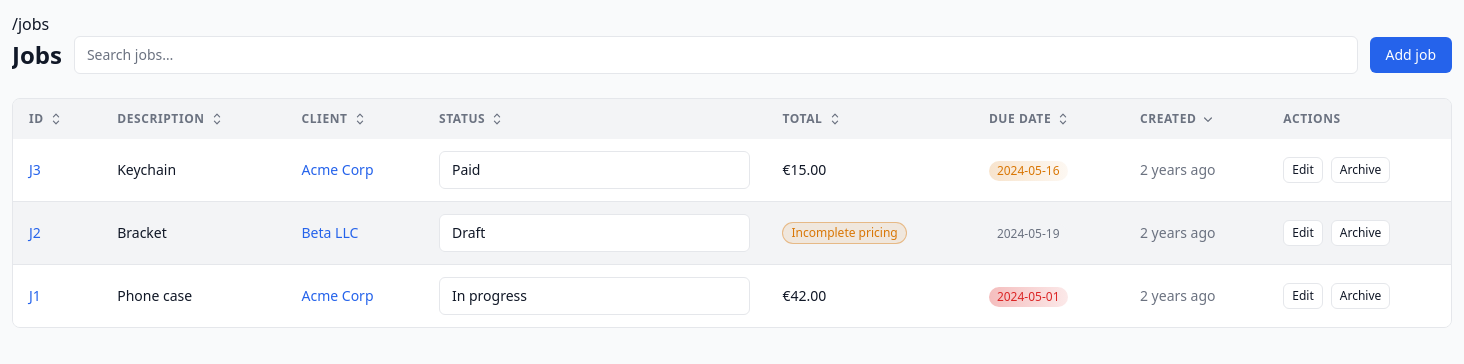
Test: JobsPage › shows the job tag tooltip from both the id and the description
This screenshot has width=1464, height=364.
Step 1. Hover over the element with test id "job-id-tooltip-J1" → (35,296), box x1=29 y1=286 x2=41 y2=306
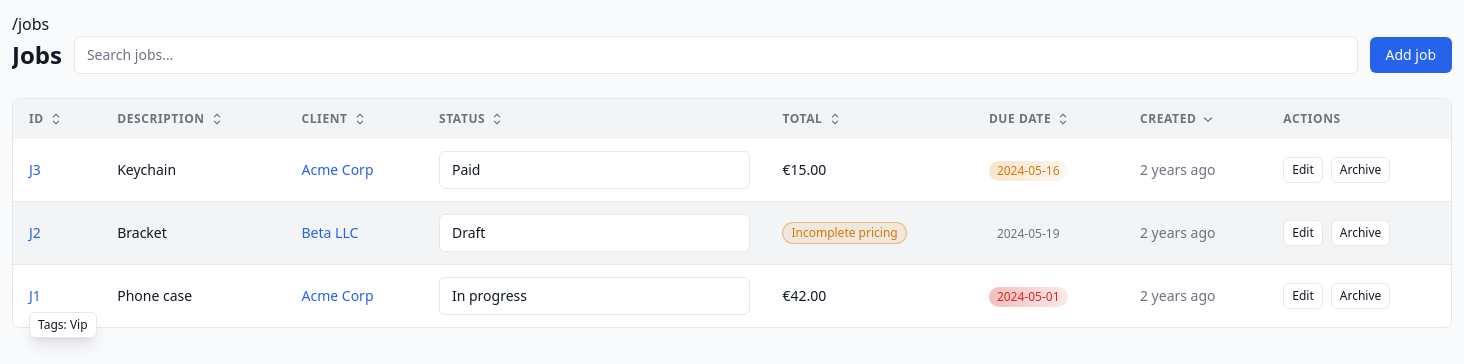
Now the tooltip reads "Tags: Vip", box x1=38 y1=316 x2=88 y2=333
Step 2. Move the pointer off the element with test id "job-id-tooltip-J1", box x1=29 y1=286 x2=41 y2=306
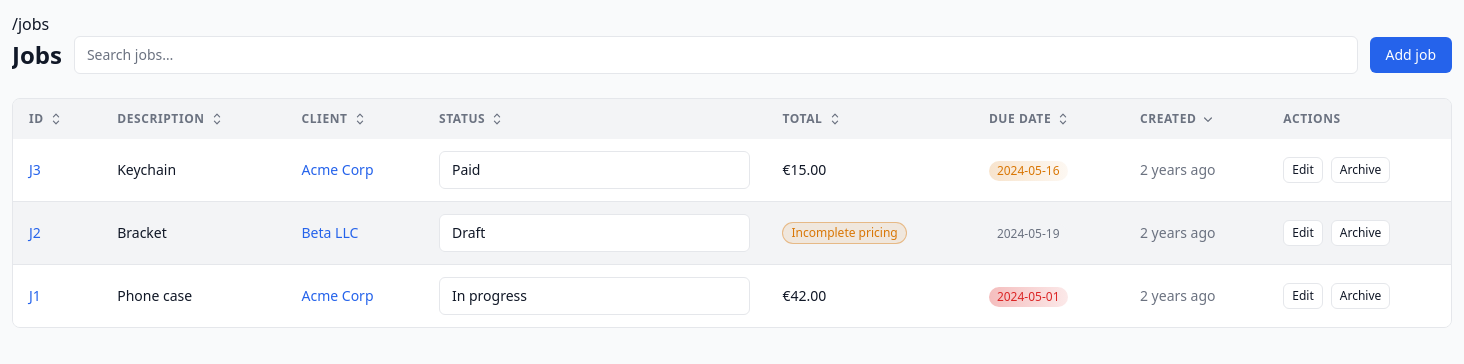
Step 3. Hover over the text with test id "job-description-tooltip-J1" → (155,296), box x1=117 y1=286 x2=192 y2=306
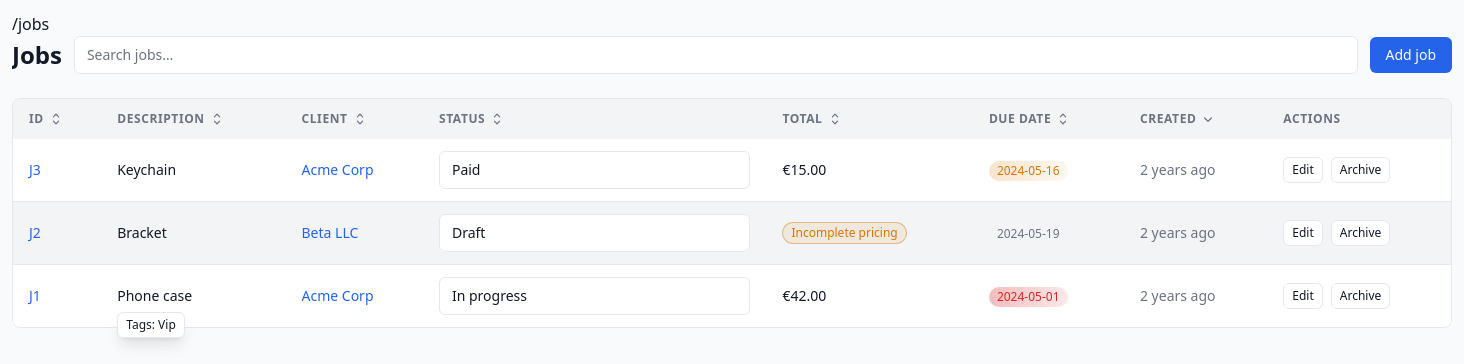
Now the tooltip reads "Tags: Vip", box x1=126 y1=316 x2=176 y2=333
